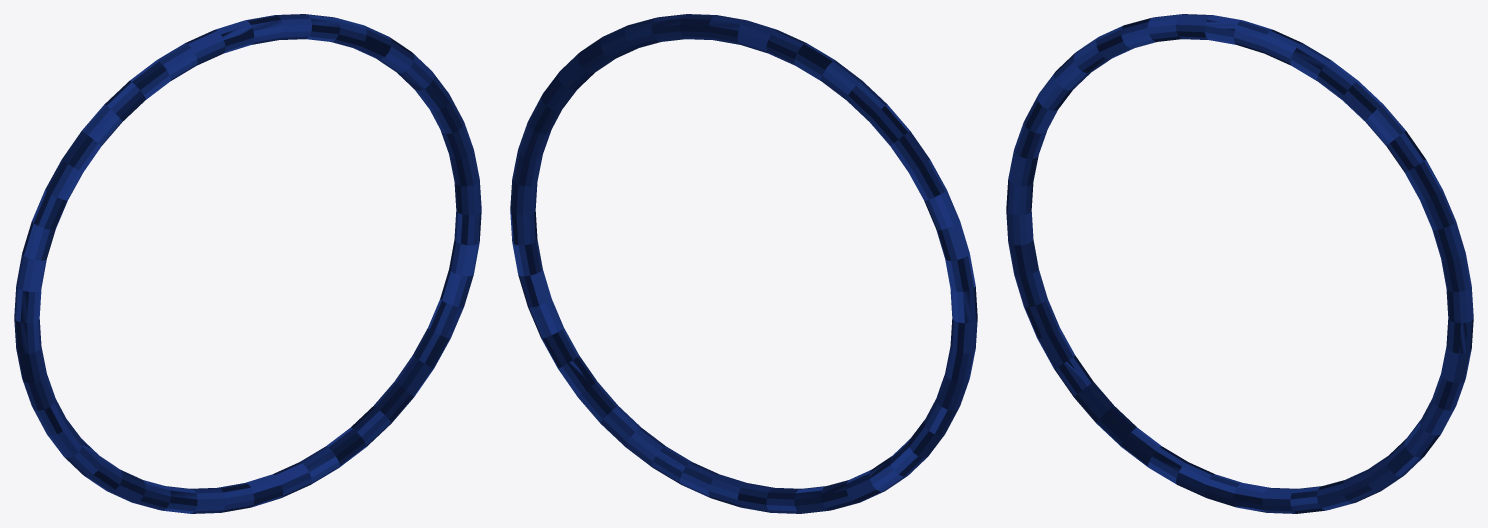
File: ring_visual.OBJ
The picture shows the model from 3 angles, left to right: view 1: azimuth 30°, elevation 25°; view 2: azimuth 150°, elevation 25°; view 3: azimuth 330°, elevation 25°; orthographic projection.
Visible parts, largest first — view 1: ring_visual; view 2: ring_visual; view 3: ring_visual.
Boxes of the visible parts, box(x1,y1,x2,y2) form: ring_visual: box(14, 14, 481, 513); ring_visual: box(510, 14, 977, 513); ring_visual: box(1006, 14, 1473, 513).
Bounding box in the file's own units: 0.015 × 0.015 × 0.000716.
